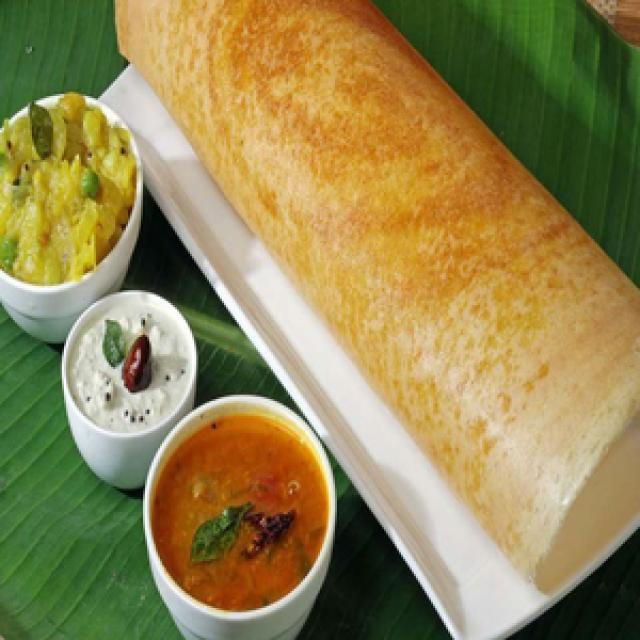dosa: (98, 0, 640, 606)
